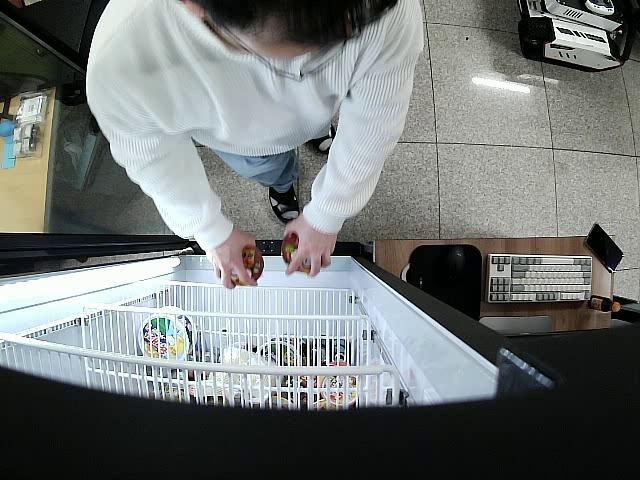00_hand: (206, 229, 259, 289), (285, 216, 335, 277)
06_nuguri_S: (280, 233, 322, 274), (229, 245, 264, 286)
